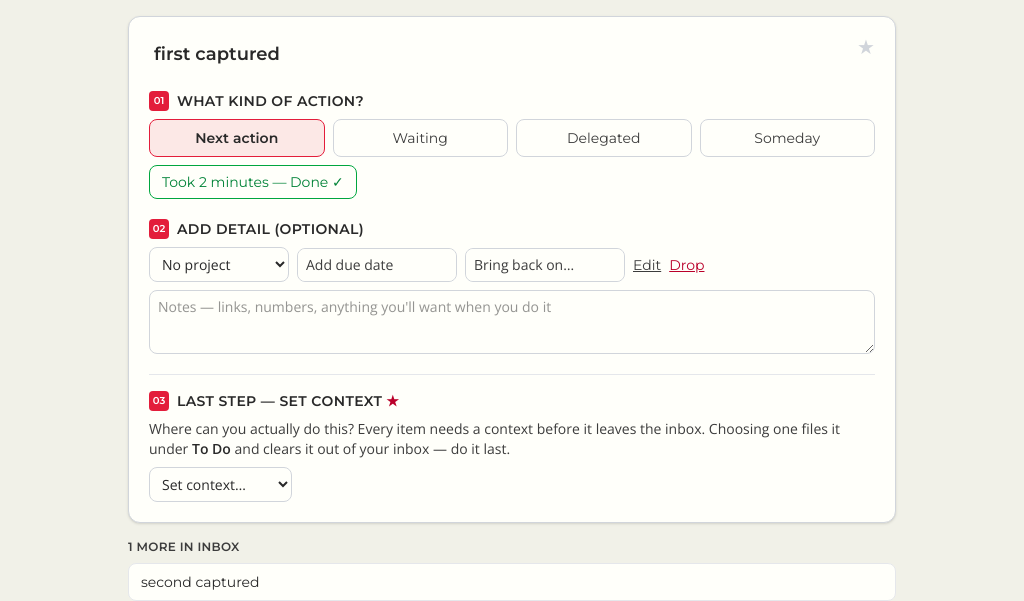
Test case: InboxPage — undoing a filing (#231) › promotes the restored item to the card instead of leaving it down the queue
(page scrolled)
Click the button "second captured". click: (200,582)
box: [128,563,896,600]
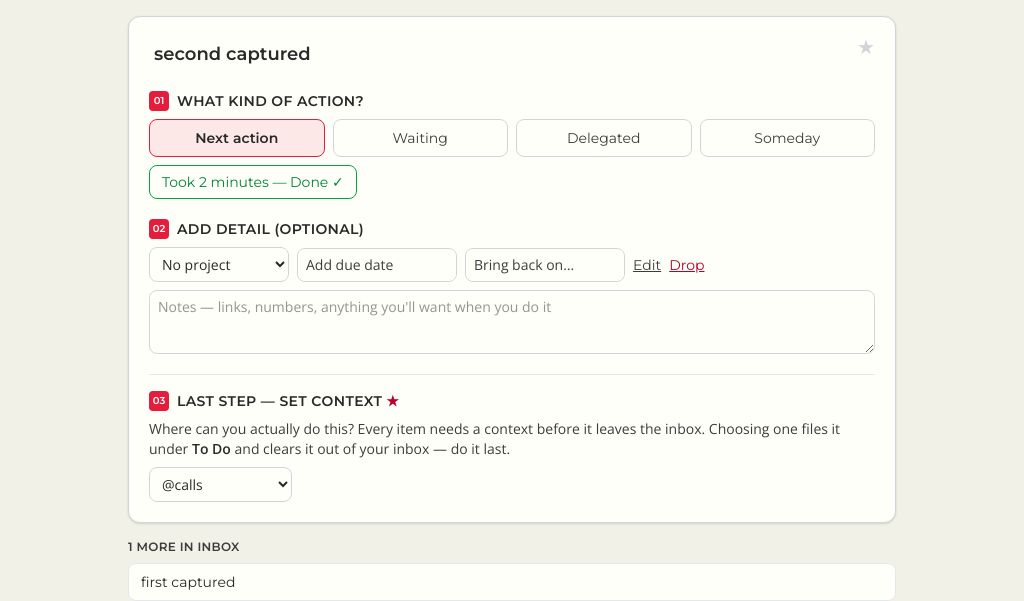
Now the button titled "Click to rename" reads "second captured", box [149,37,316,71]
Select "@calls" in the dropdown named "Set context and file this todo". click: (220,484)
box: [149,467,292,502]
(page scrolled)
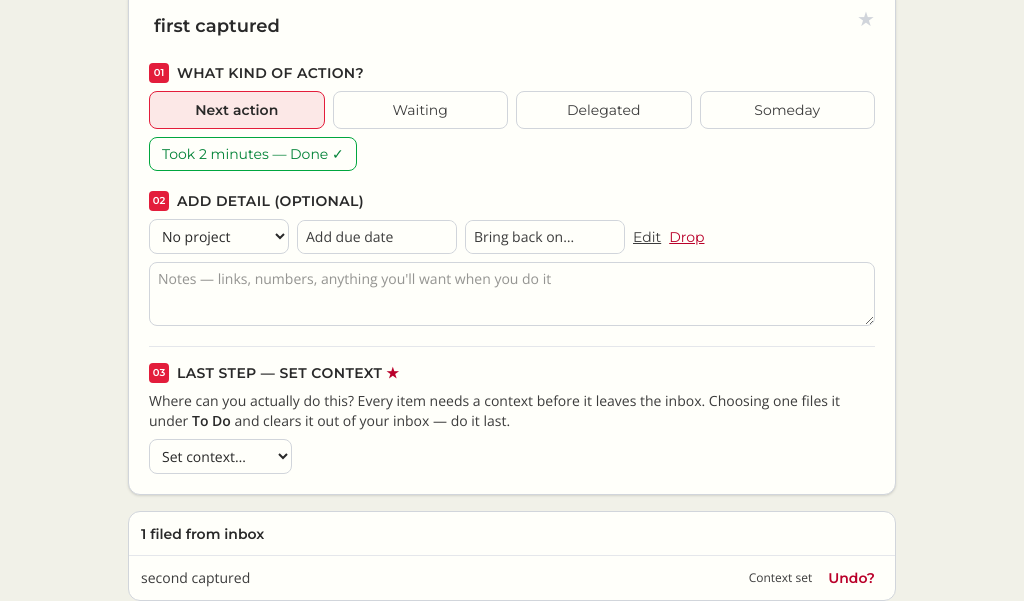
Now the button titled "Click to rename" reads "first captured", box [149,9,285,43]
Click the button "Undo?". click: (852,578)
box: [820,564,883,592]
(page scrolled)
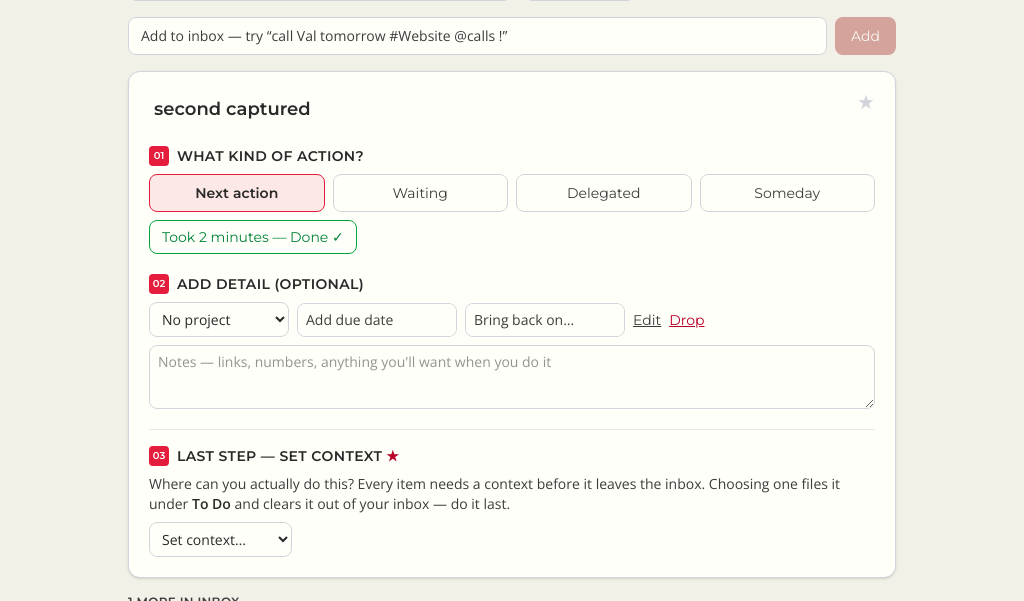
Now the button titled "Click to rename" reads "second captured", box [149,92,316,126]
